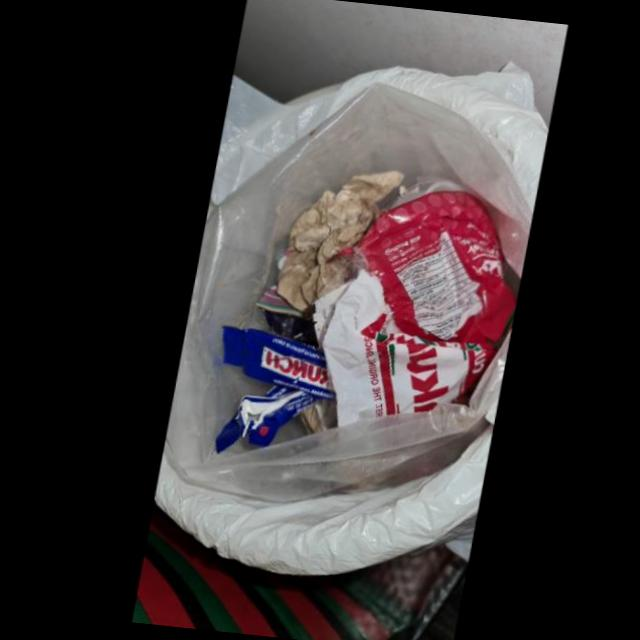bao_bi_thuc_pham: (306, 191, 510, 428), (215, 326, 325, 400), (212, 388, 312, 455)
giay: (269, 171, 395, 311)
